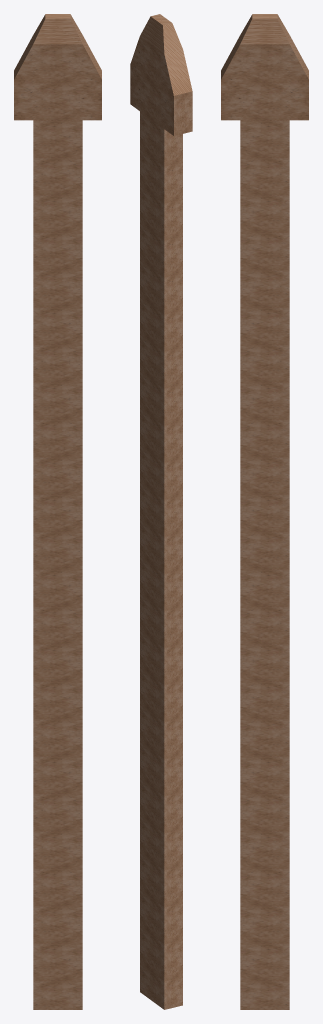
File: xenotown-clock-minute4.glb
3 views of the same model, side by side, from view 1: azimuth 90°, elevation 25°; view 2: azimuth 210°, elevation 25°; view 3: azimuth 270°, elevation 25° (orthographic).
Parts seen in each view (by area): view 1: MinuteHand1.003; view 2: MinuteHand1.003; view 3: MinuteHand1.003.
Boxes of the visible parts, x1,y1,x2,y2 form: MinuteHand1.003: (14,14,101,1009); MinuteHand1.003: (130,14,192,1009); MinuteHand1.003: (221,14,308,1009).
Size of the model in its own units: 0.0182 by 0.9094 by 0.0731.
Materials: 1 (1 with a texture image).
